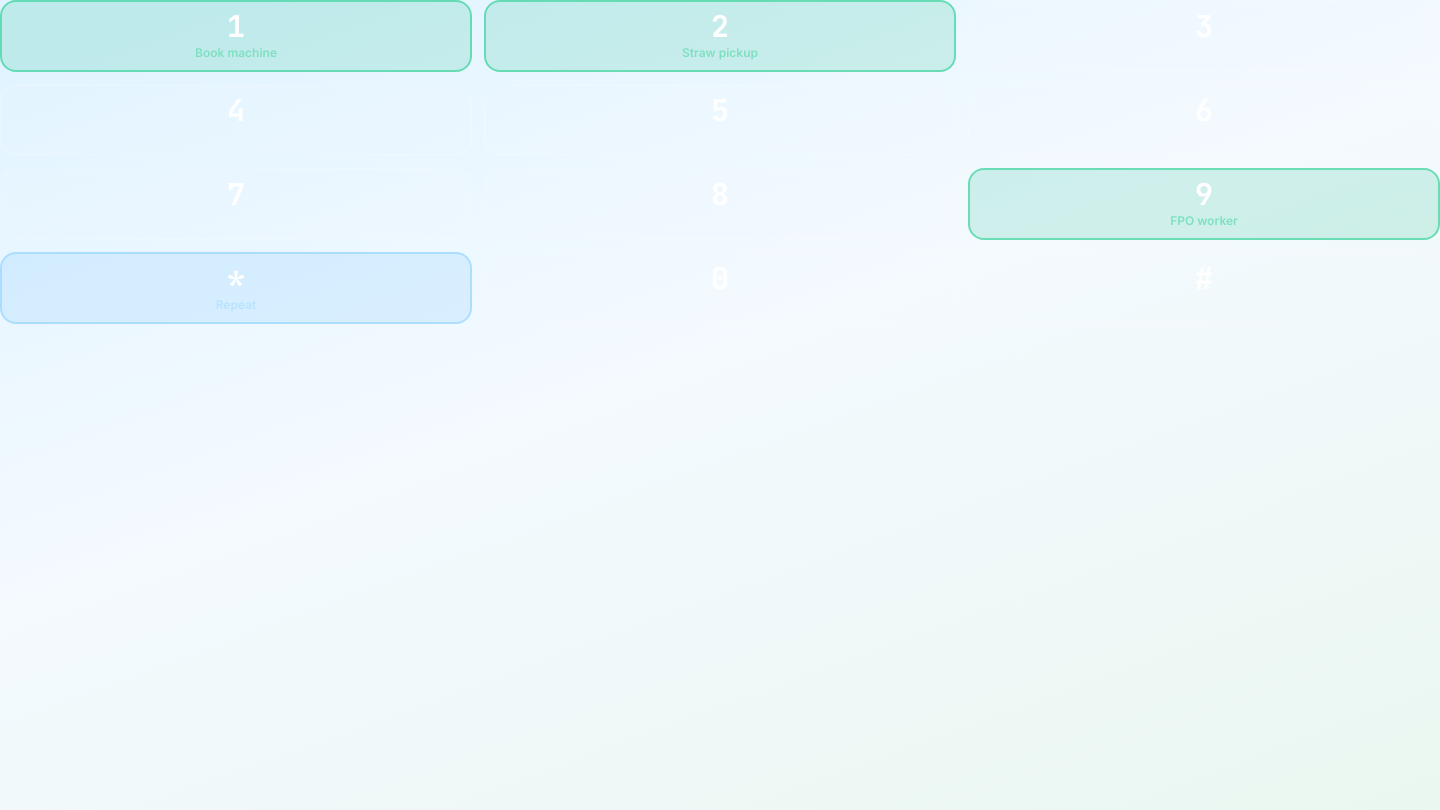
Scenario: KeypadPanel flow › 0 while confirming goes back to the menu and books nothing
This screenshot has width=1440, height=810.
Click the button with aria-label "Press 2": (720, 36) [484,0,956,72]
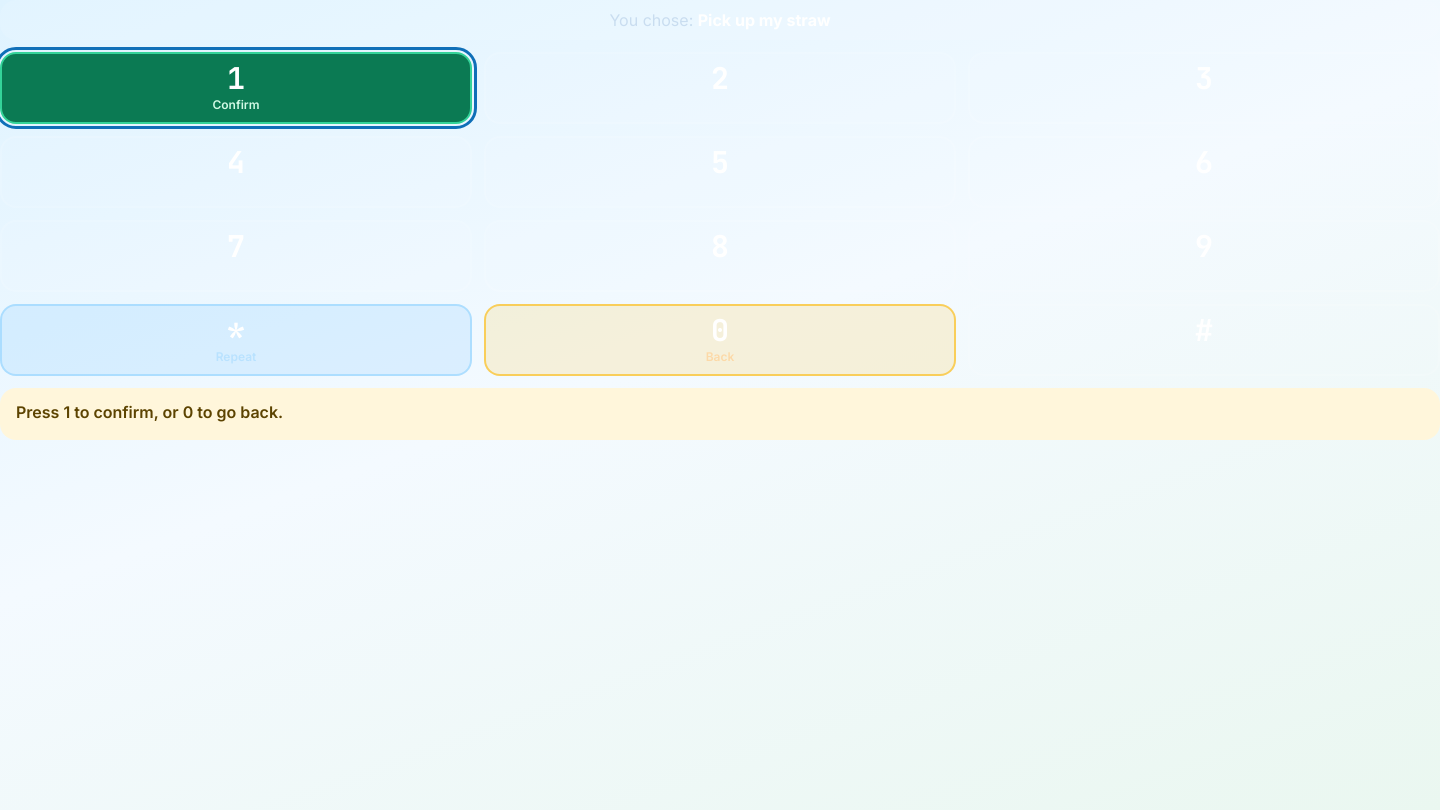
Click the button with aria-label "Press 0: Go back": (720, 340) [484,304,956,376]
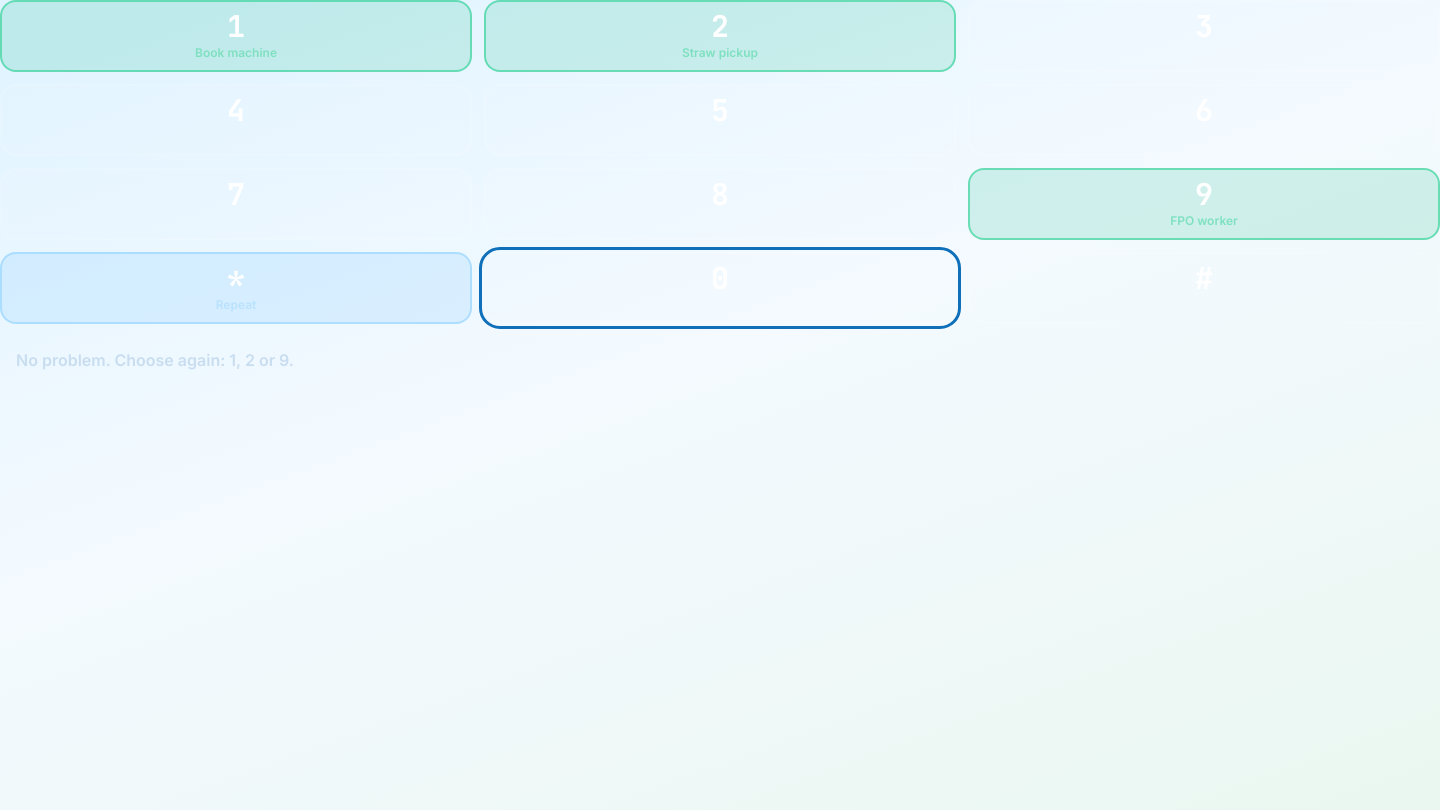
Now the element with test id "confirm-step" is gone
Now the button with aria-label "Press 1: Book a machine" is shown, box [0,0,472,72]
